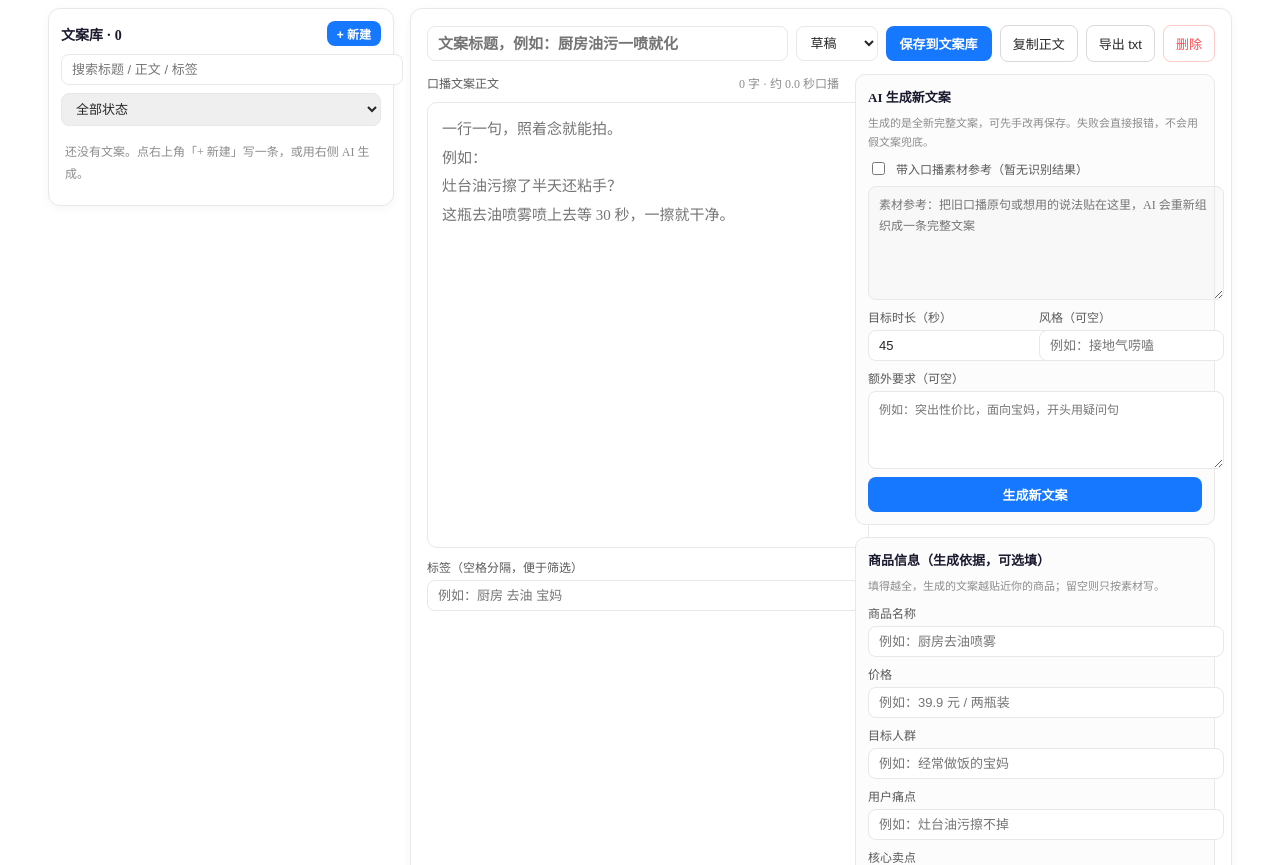
Test: CopywritingPanel › fills the editor with the AI draft and remembers the provider
Click the button "生成新文案": (1035, 495) x1=868 y1=477 x2=1202 y2=512
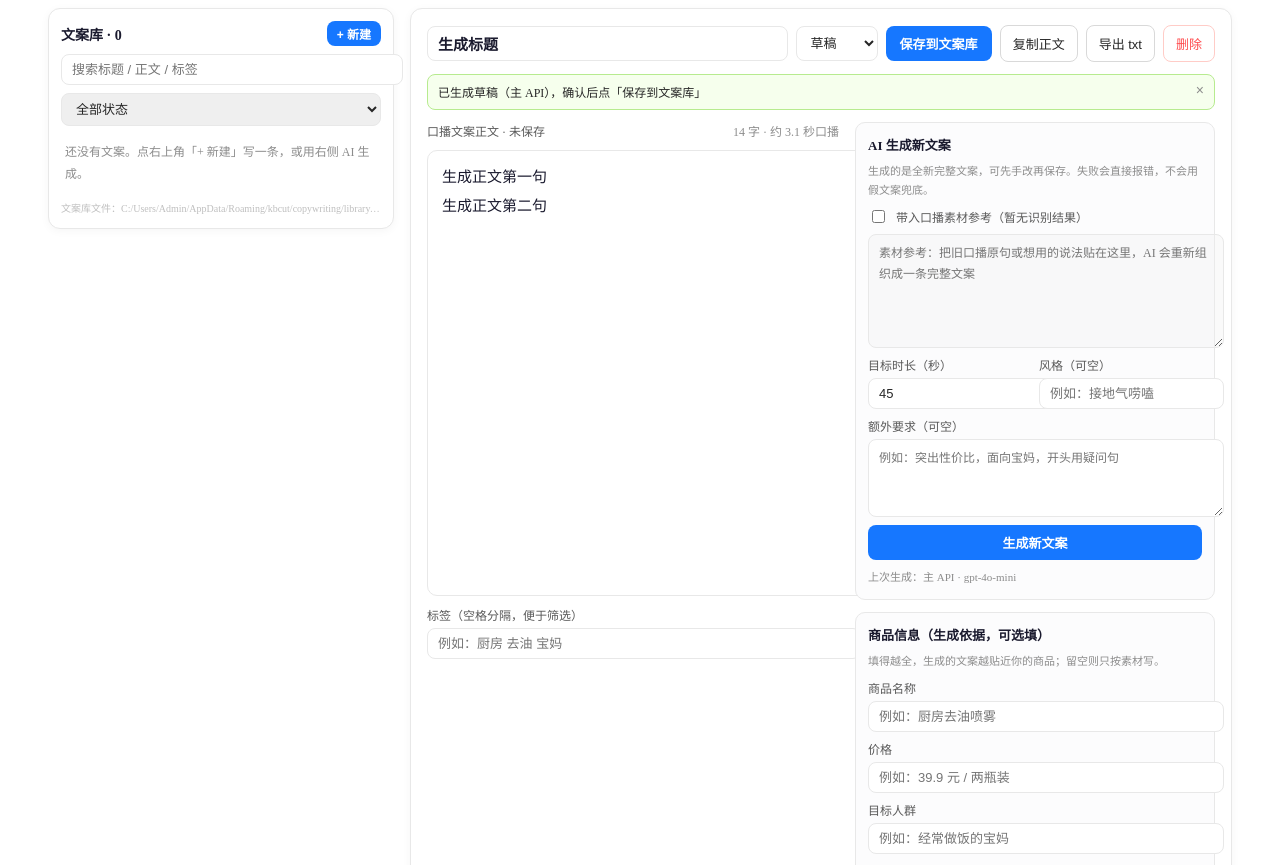
Expected: the text "上次生成：主 API · gpt-4o-mini" is shown, x1=868 y1=571 x2=1016 y2=583
